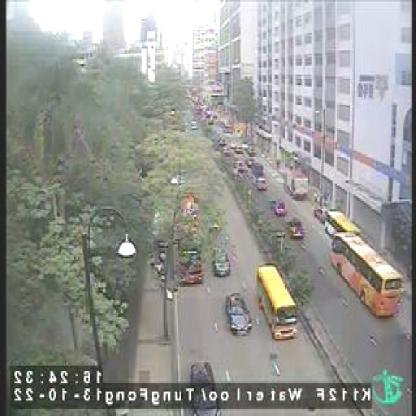Bus: (332, 230, 400, 318), (256, 263, 297, 341), (178, 196, 204, 288)
Car: (226, 292, 252, 337), (210, 246, 230, 278), (286, 216, 305, 240), (270, 197, 286, 218), (255, 174, 268, 190)
